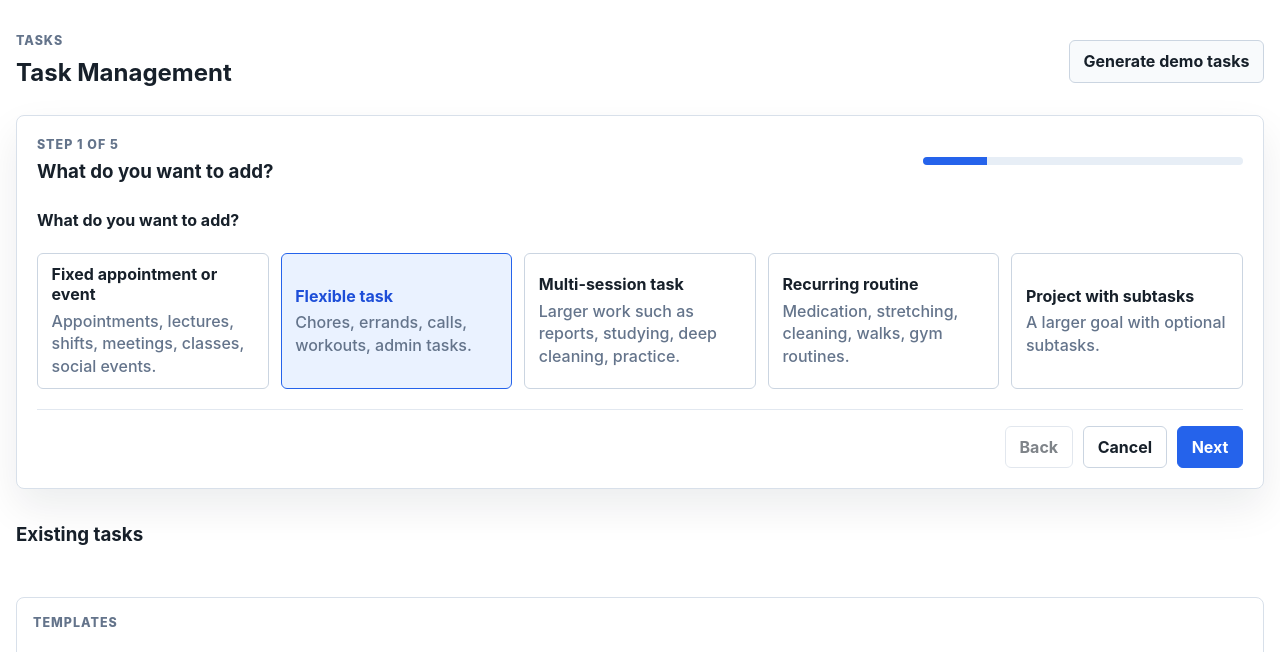
Scenario: TaskCrudPage full task creation flow › advanced task controls are hidden by default and revealed on request
Expected: the heading "Task Management" is shown, [16,55,232,91]
Click the button "Next" at (1210, 447), box [1177,426,1243,468]
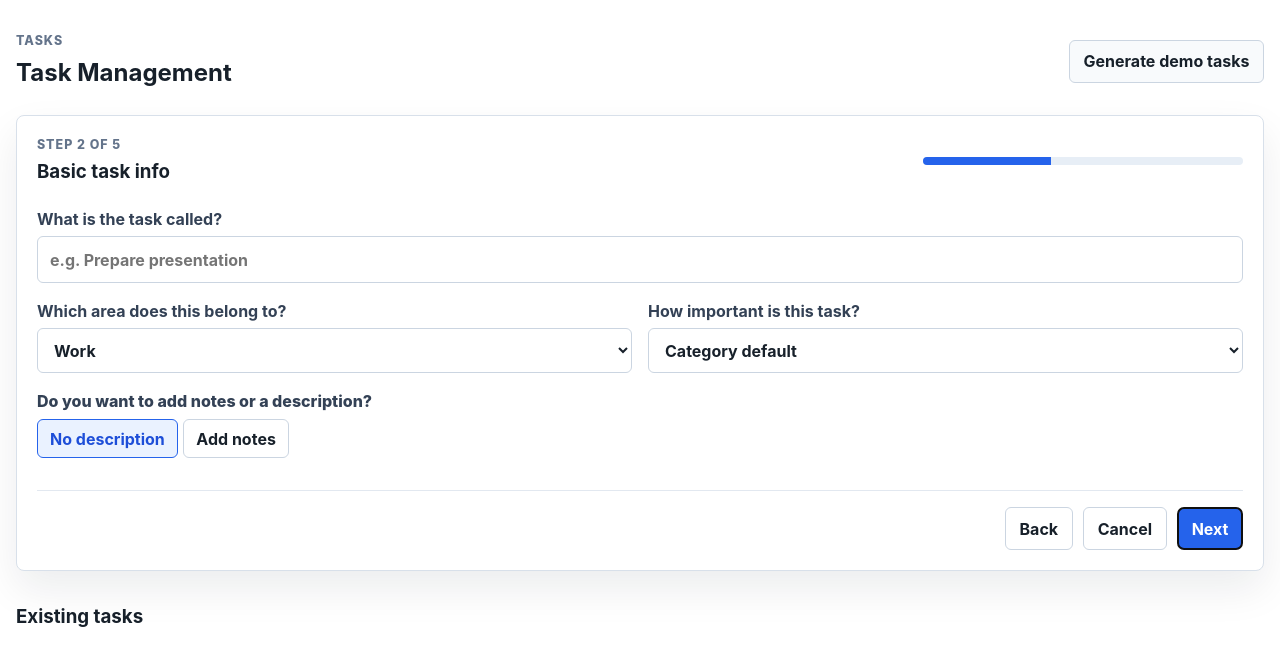
Expected: the dropdown labelled "How important is this task?" shows "Category default", [648,328,1243,373]
Type "Plan day" into the field labelled "What is the task called?" at (640, 260), box [37,236,1243,283]
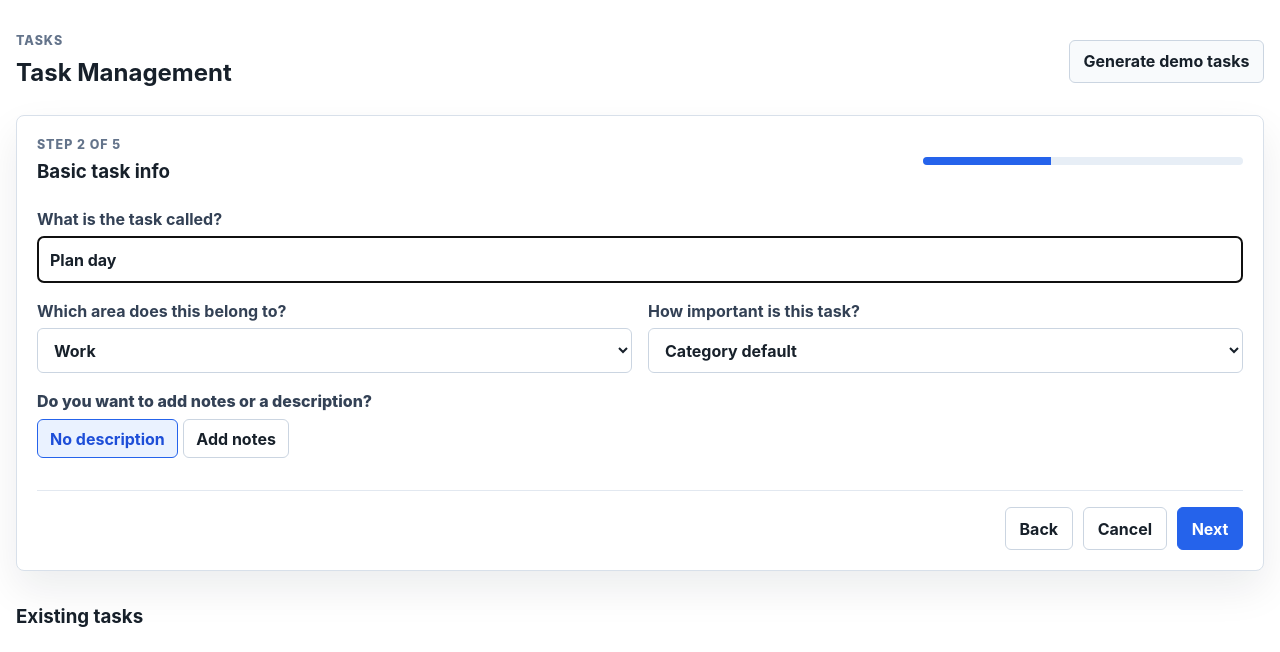
Click the button "Next" at (1210, 529), box [1177,508,1243,550]
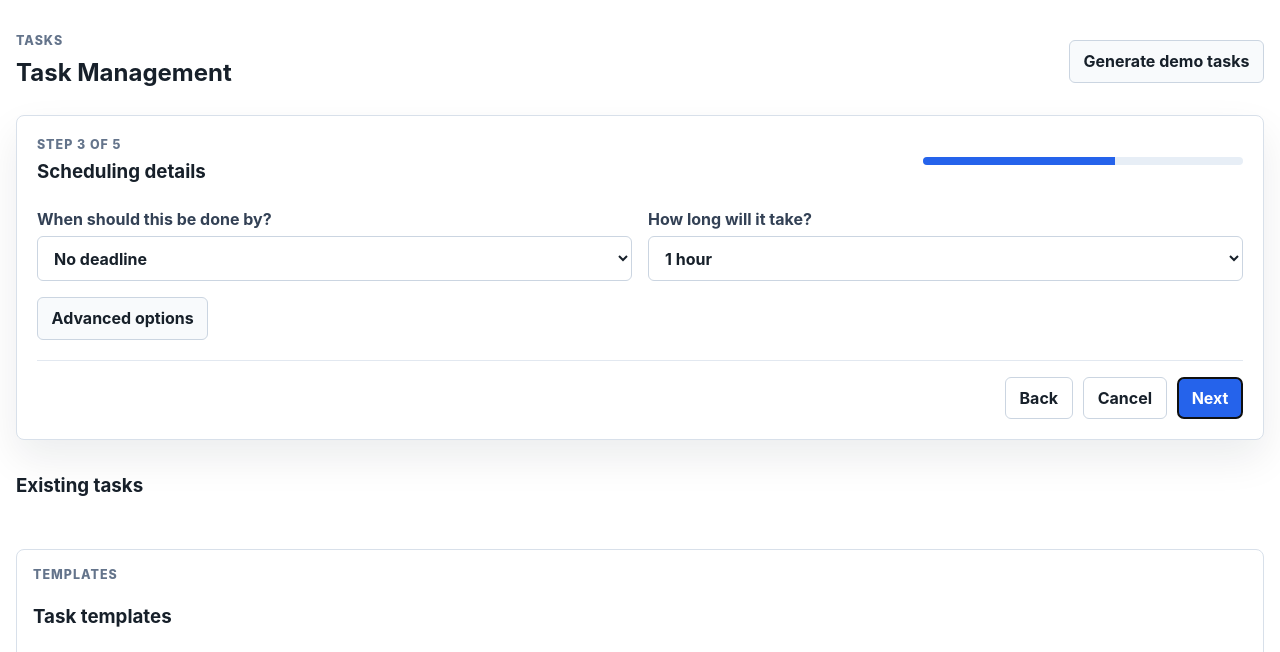
Expected: the text "When may the scheduler start" is not shown
Expected: the text "Can this task be split" is not shown
Click the button "Advanced options" at (123, 318), box [37,297,208,340]
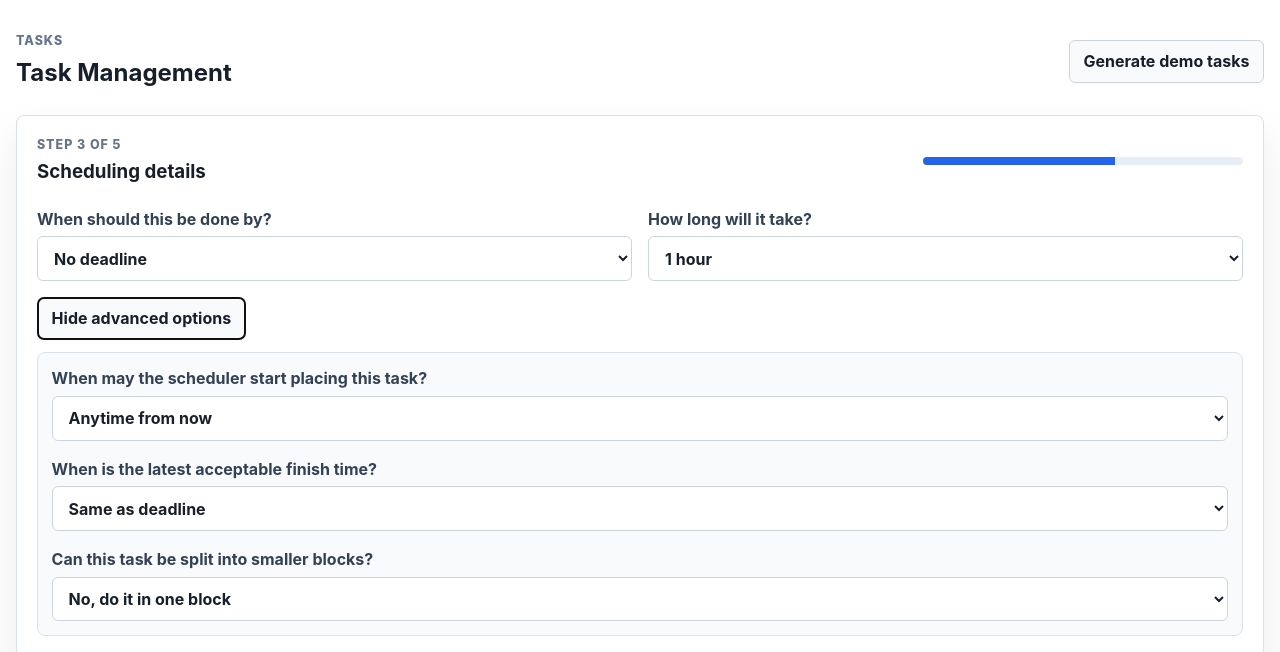
Expected: the text "When may the scheduler start placing this task?" is shown, [52,366,1228,441]
Expected: the text "Can this task be split into smaller blocks?" is shown, [52,547,1228,621]
